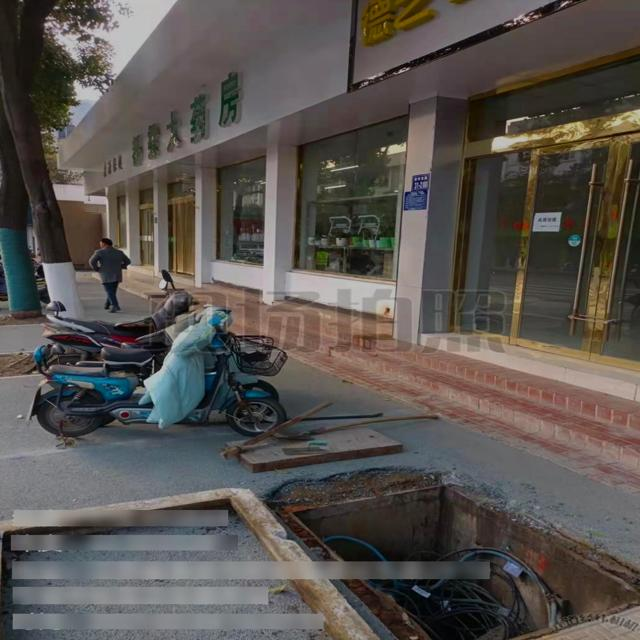lose: (272, 478, 640, 640)
